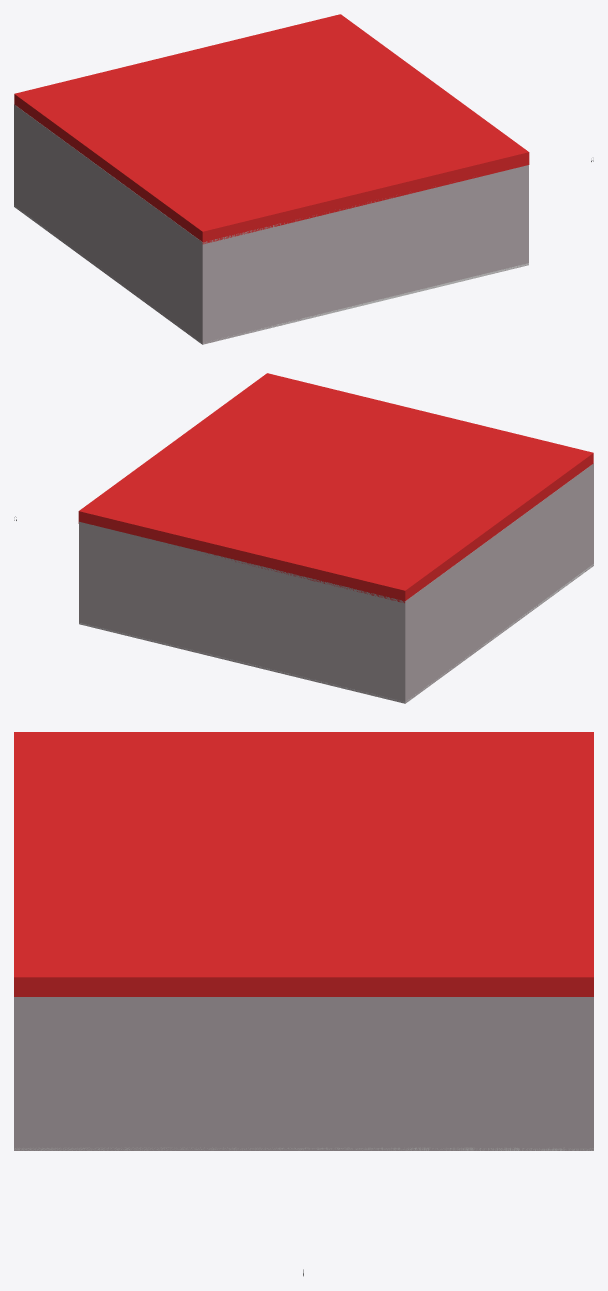
File: Ruangan workshop.fbx
3 renders of one model, top to bottom at view 1: azimuth 30°, elevation 25°; view 2: azimuth 150°, elevation 25°; view 3: azimuth 270°, elevation 25°, orthographic. The views are drawn at different scales.
Visible parts, largest first — view 1: atap, Cube, Cube.002; view 2: atap, Cube, Cube.002; view 3: atap, Cube, Cube.002.
Part boxes in pixels (left/top/right/bottom): atap: left=14, top=14, right=529, bottom=244; Cube: left=14, top=104, right=528, bottom=344; Cube.002: left=14, top=205, right=528, bottom=344; atap: left=78, top=373, right=593, bottom=603; Cube: left=79, top=463, right=593, bottom=703; Cube.002: left=79, top=564, right=593, bottom=703; atap: left=14, top=732, right=593, bottom=996; Cube: left=14, top=997, right=593, bottom=1150; Cube.002: left=14, top=1147, right=593, bottom=1150.
Size of the model in its own units: 1487 by 344 by 1000.
